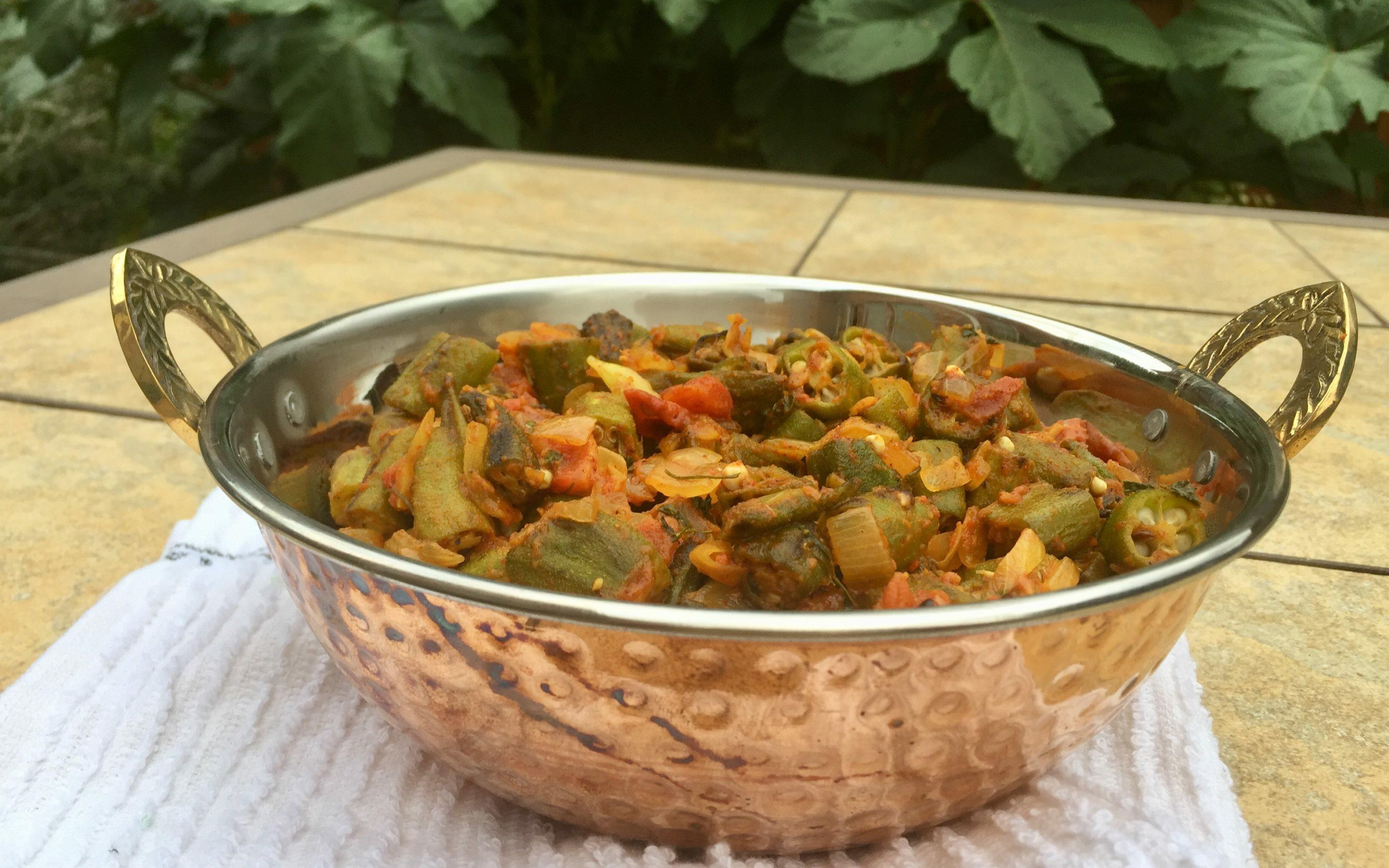BhindiMasala: (269, 310, 1213, 614)
